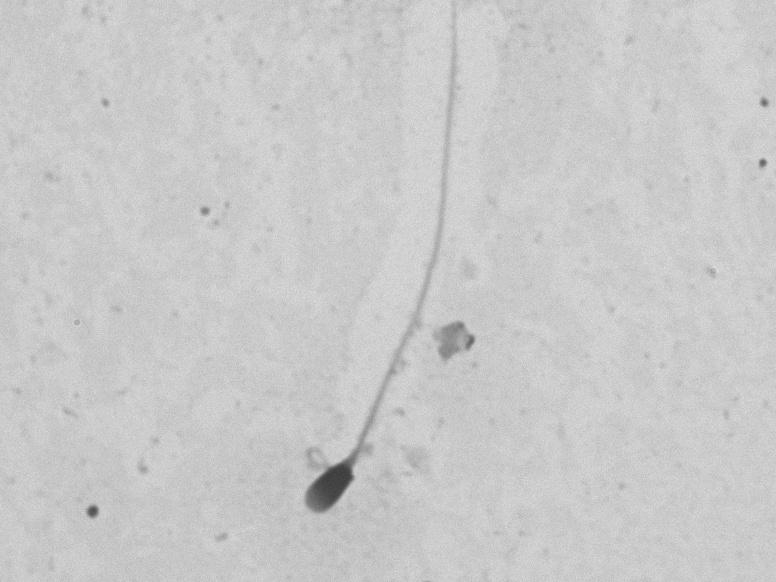Abnormal: (230, 12, 516, 553)
